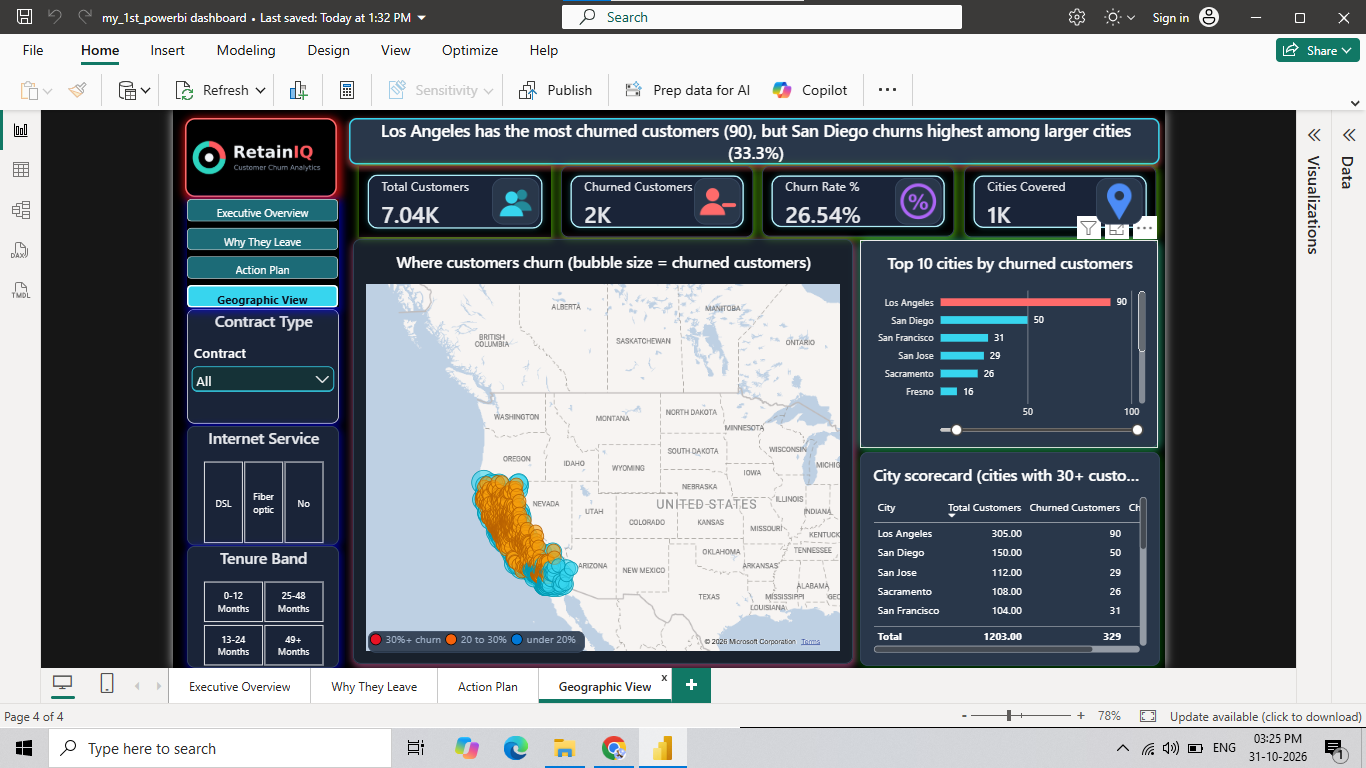

What the dashboard file says about the page in this screenshot:
{"tool":"powerbi","page":{"name":"Geographic View","canvas":[1280,720],"ordinal":3},"visuals":[{"type":"textbox","title":"Los Angeles has the most churned customers (90), but San Diego churns highest among larger cities (33.3%)","box":[227.1,10,1046,60],"z":0},{"type":"slicer","title":"Contract Type","fields":{"Values":["Customers.Contract"]},"box":[18.6,257,195.6,148],"z":1000},{"type":"slicer","title":"Internet Service","fields":{"Values":["Customers.InternetService"]},"box":[18.6,408.2,195.6,154.5],"z":2000},{"type":"slicer","title":"Tenure Band","fields":{"Values":["Customers.TenureBand"]},"box":[18.6,562.7,195.6,157],"z":3000},{"type":"image","box":[15.7,10.9,195.6,102],"z":4000},{"type":"pageNavigator","box":[18.6,114.8,195.6,140],"z":5000},{"type":"cardVisual","title":"Total Customers","fields":{"Data":["_Measures.Total Customers"]},"box":[240,72,248,92],"z":6000},{"type":"cardVisual","fields":{"Data":["_Measures.Churn Rate %"]},"box":[760,72,248,91],"z":7000},{"type":"cardVisual","fields":{"Data":["_Measures.Cities Covered"]},"box":[1020,72,248,92],"z":8000},{"type":"cardVisual","title":"Churned","fields":{"Data":["_Measures.Churned Customers"]},"box":[500,72,248,92],"z":9000},{"type":"map","title":"Where customers churn (bubble size = churned customers)","fields":{"Size":["_Measures.Churned Customers"],"X":["Customers.Longitude"],"Y":["Customers.Latitude"]},"box":[232,167,645,548],"z":10000},{"type":"textbox","box":[252,672,280,28],"z":11000},{"type":"clusteredBarChart","title":"Top 10 cities by churned customers","fields":{"Category":["Customers.City"],"Y":["_Measures.Churned Customers"]},"box":[886,168,385,268],"z":12000},{"type":"tableEx","title":"City scorecard (cities with 30+ customers)","fields":{"Values":["Customers.City","_Measures.Total Customers","_Measures.Churned Customers","_Measures.Churn Rate %"]},"box":[886,441,387,276],"z":13000},{"type":"image","box":[411,88,60.9,60],"z":14000},{"type":"image","box":[672,88,60,60],"z":15000},{"type":"image","box":[932,88,60,60],"z":16000},{"type":"image","box":[1191,88,60,60],"z":17000}]}

Visuals, with their boxes on the page's 1280x720 design canvas (x1, y1, x2, y2). These are canvas units, not pixel positions in the 1366x768 screenshot, which may show the page scaled, cropped or inside an application window:
"Los Angeles has the most churned customers (90), but San Diego churns highest among larger cities (33.3%)" textbox: x1=227, y1=10, x2=1273, y2=70
"Contract Type" slicer: x1=19, y1=257, x2=214, y2=405
"Internet Service" slicer: x1=19, y1=408, x2=214, y2=563
"Tenure Band" slicer: x1=19, y1=563, x2=214, y2=720
image: x1=16, y1=11, x2=211, y2=113
pageNavigator: x1=19, y1=115, x2=214, y2=255
"Total Customers" cardVisual: x1=240, y1=72, x2=488, y2=164
cardVisual - _Measures.Churn Rate %: x1=760, y1=72, x2=1008, y2=163
cardVisual - _Measures.Cities Covered: x1=1020, y1=72, x2=1268, y2=164
"Churned" cardVisual: x1=500, y1=72, x2=748, y2=164
"Where customers churn (bubble size = churned customers)" map: x1=232, y1=167, x2=877, y2=715
textbox: x1=252, y1=672, x2=532, y2=700
"Top 10 cities by churned customers" clusteredBarChart: x1=886, y1=168, x2=1271, y2=436
"City scorecard (cities with 30+ customers)" tableEx: x1=886, y1=441, x2=1273, y2=717
image: x1=411, y1=88, x2=472, y2=148
image: x1=672, y1=88, x2=732, y2=148
image: x1=932, y1=88, x2=992, y2=148
image: x1=1191, y1=88, x2=1251, y2=148
